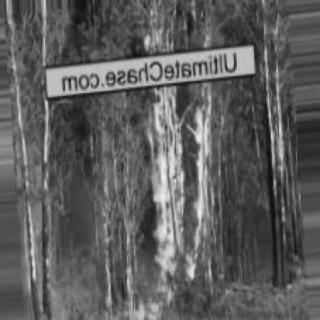Fire: (136, 10, 214, 314)
